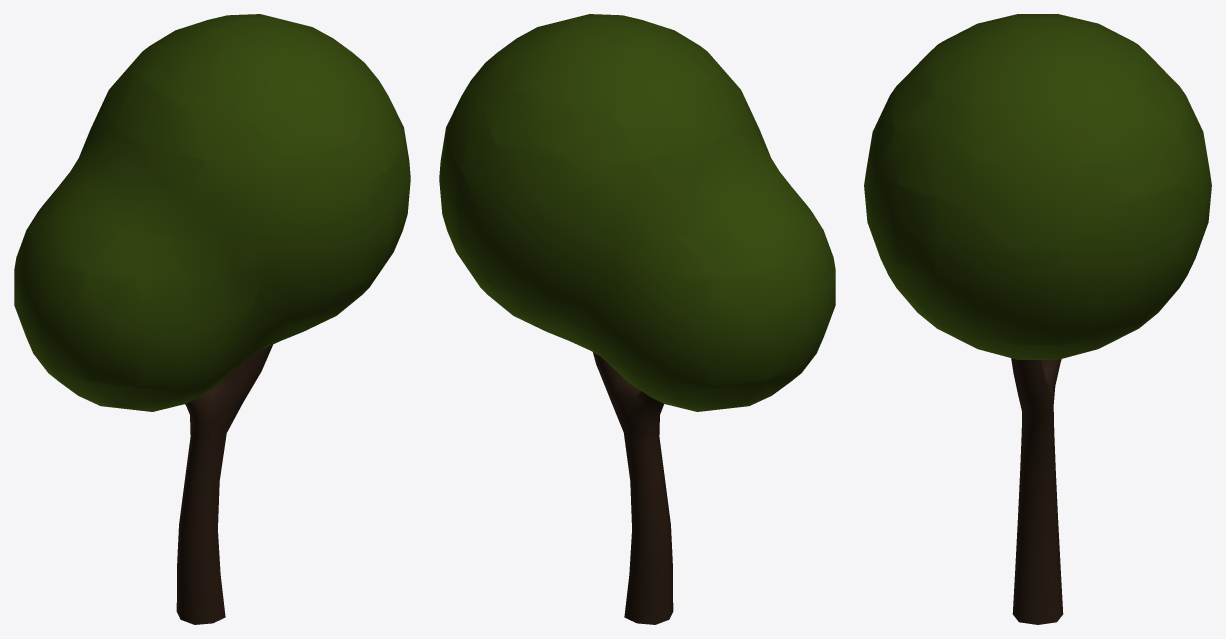
The picture shows the model from 3 angles, left to right: view 1: azimuth 30°, elevation 25°; view 2: azimuth 150°, elevation 25°; view 3: azimuth 270°, elevation 25°; orthographic projection. The views are drawn at different scales.
Visible parts, largest first — view 1: Tree_4.003_Cube.041; view 2: Tree_4.003_Cube.041; view 3: Tree_4.003_Cube.041.
Boxes of the visible parts, left/top/right/bottom form: Tree_4.003_Cube.041: left=14, top=14, right=410, bottom=624; Tree_4.003_Cube.041: left=439, top=14, right=835, bottom=624; Tree_4.003_Cube.041: left=864, top=14, right=1211, bottom=624.
Size of the model in its own units: 1276 by 1962 by 1017.
